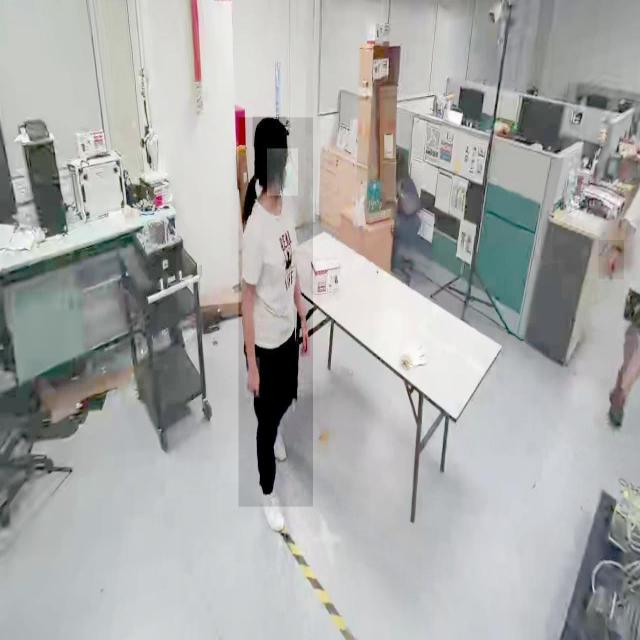face_mask: (267, 148, 298, 196)
hand_noglove: (598, 240, 624, 280), (244, 358, 260, 398), (298, 316, 310, 358)
head_nohelmet: (253, 116, 287, 148)
person: (238, 118, 314, 508)
shoes: (258, 475, 288, 537), (267, 416, 288, 462)
